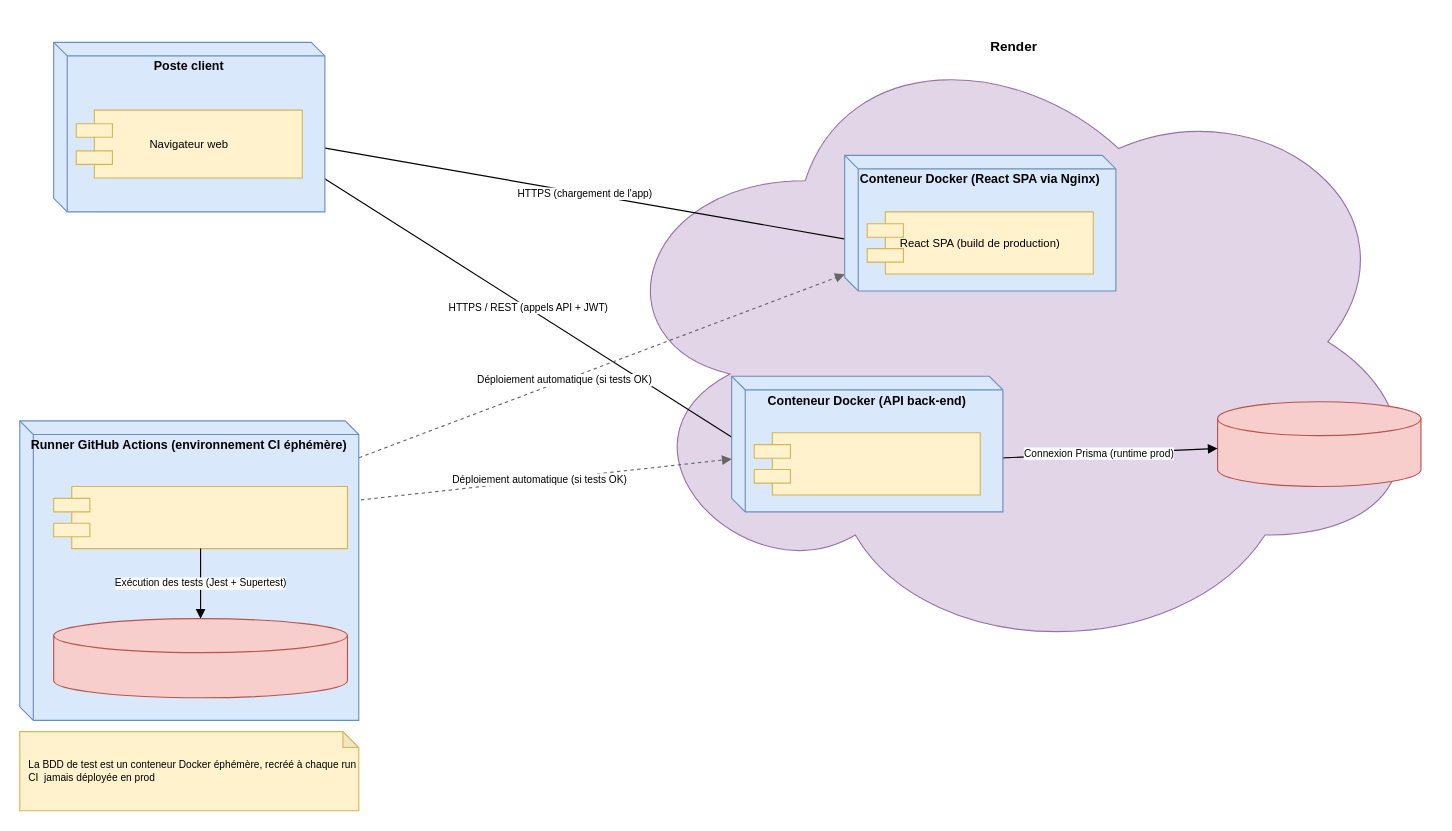
Some shapes in this 1452 by 831 pixel diagram are drawn without their labels. Here are the shapes that lost their labels. From the top down, the centre of each, then its label:
the point at 866,463: API Express + Prisma ORM
the point at 1318,443: PostgreSQL (managée, prod)
the point at 200,517: GitHub Actions (tests + build)
the point at 200,658: PostgreSQL (conteneur Docker, BDD de test)
